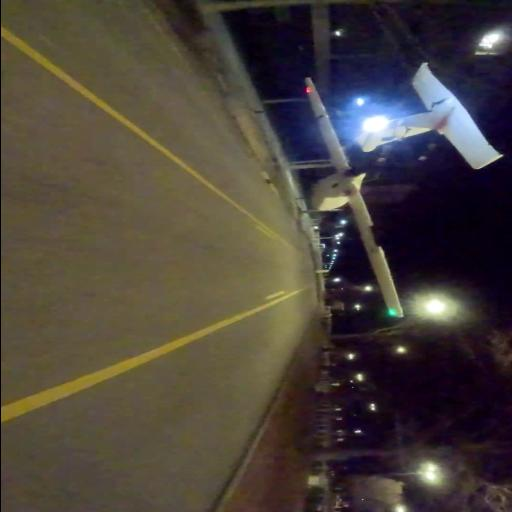uav: (298, 58, 504, 320)
